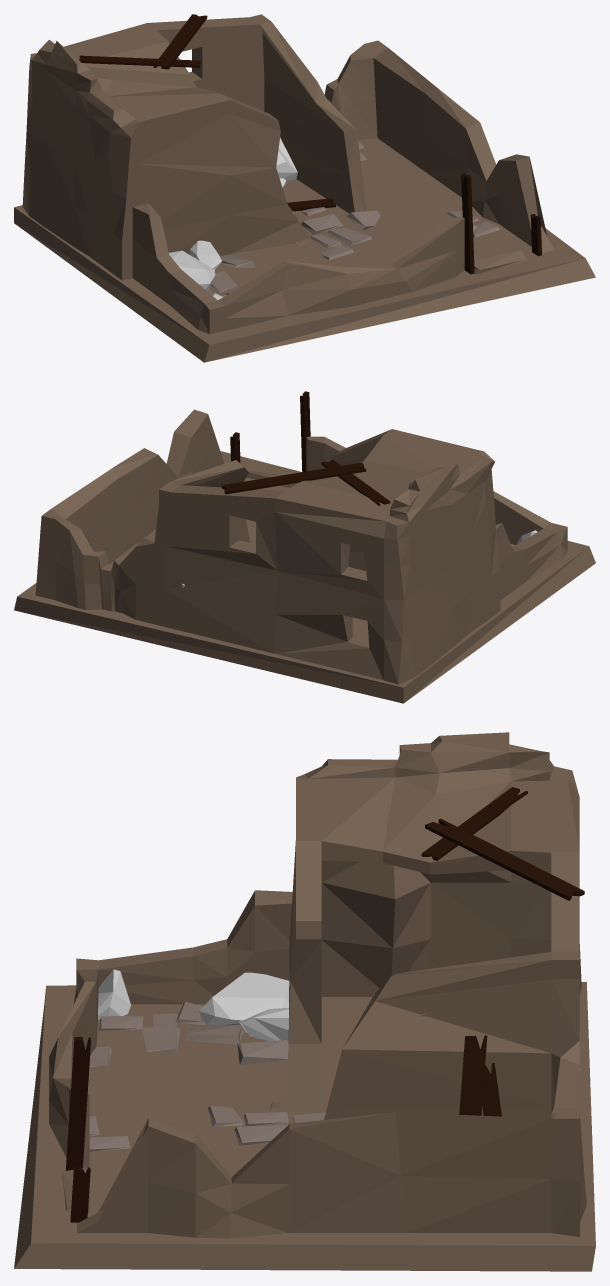
File: M_HouseDestroyed.FBX
3 renders of one model, top to bottom at view 1: azimuth 30°, elevation 25°; view 2: azimuth 150°, elevation 25°; view 3: azimuth 270°, elevation 25°, orthographic. The views are drawn at different scales.
Visible parts, largest first — view 1: M_HouseDestroyed; view 2: M_HouseDestroyed; view 3: M_HouseDestroyed.
Part boxes in pixels (x1=…): M_HouseDestroyed: x1=14, y1=14, x2=595, y2=362; M_HouseDestroyed: x1=14, y1=391, x2=595, y2=703; M_HouseDestroyed: x1=14, y1=732, x2=595, y2=1271.
Bounding box in the file's own units: 426 × 210 × 392.
